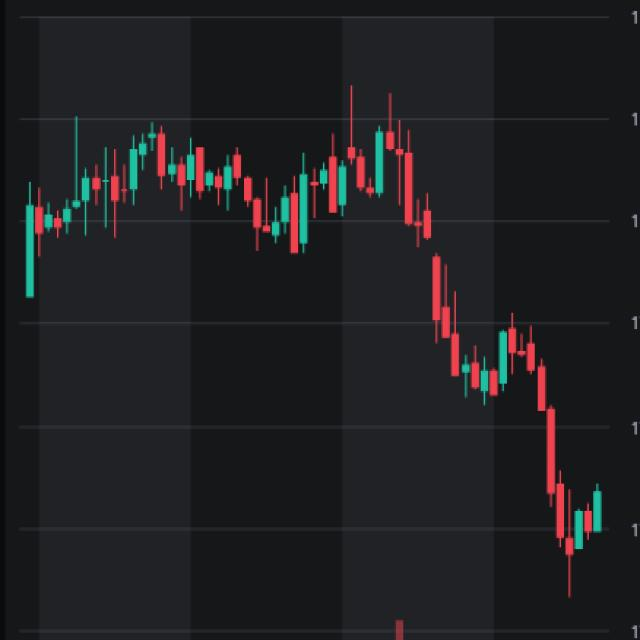Support-breakout: (276, 82, 490, 429)
